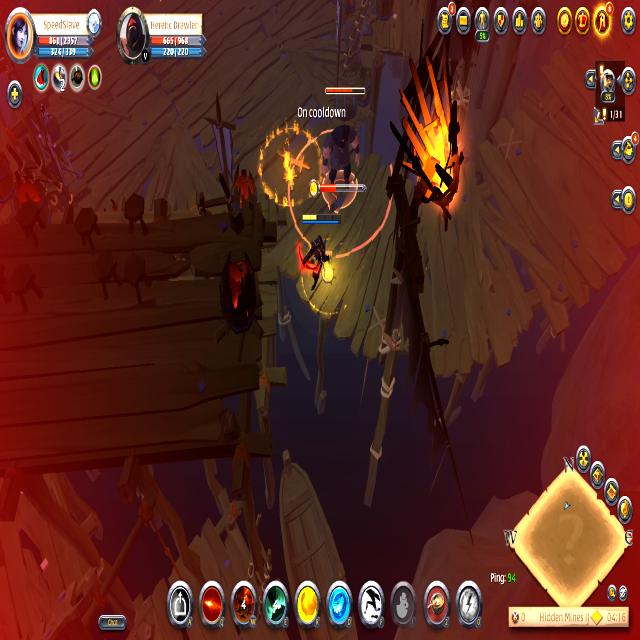ore: (321, 83, 368, 216)
red: (297, 210, 345, 312)
silver: (283, 130, 397, 266)
